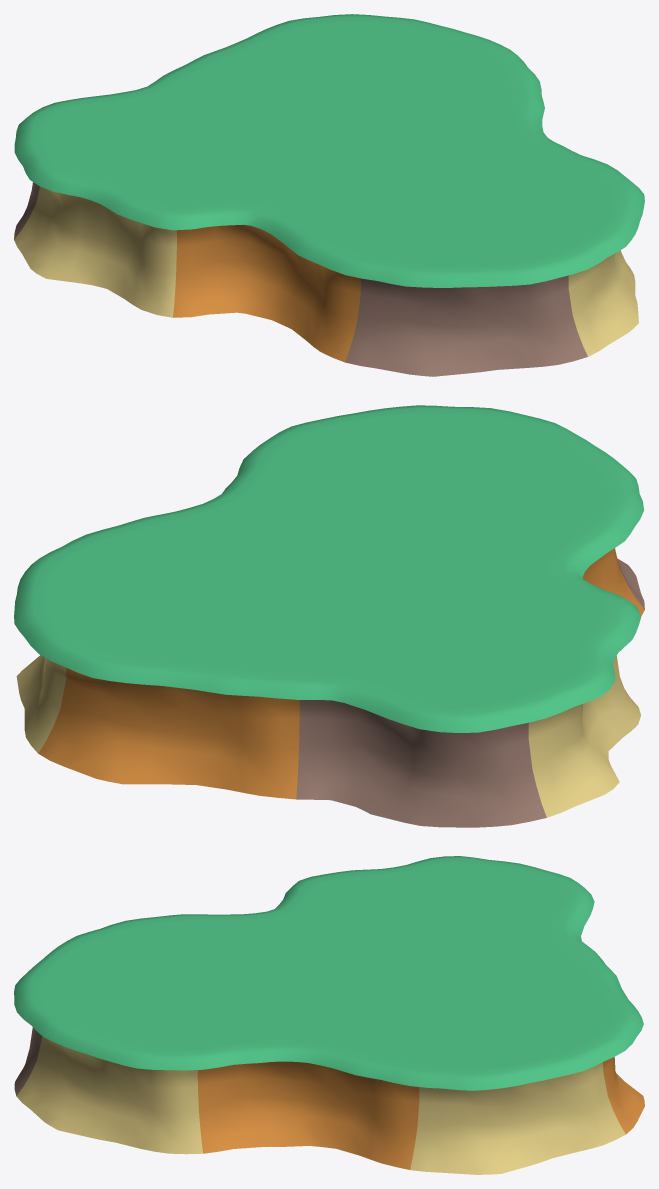
File: Mod_A6_Lm2.fbx
The picture shows the model from 3 angles, top to bottom: view 1: azimuth 30°, elevation 25°; view 2: azimuth 150°, elevation 25°; view 3: azimuth 270°, elevation 25°; orthographic projection. The views are drawn at different scales.
Visible parts, largest first — view 1: Mod_A6_Lm2; view 2: Mod_A6_Lm2; view 3: Mod_A6_Lm2.
Part boxes in pixels (x1,y1,x2,y2): Mod_A6_Lm2: (14,14,644,376); Mod_A6_Lm2: (14,405,644,827); Mod_A6_Lm2: (14,856,644,1174).
Size of the model in its own units: 2389 by 442 by 2739.
